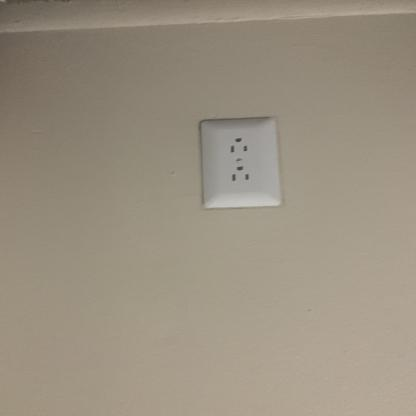OUTLET: (201, 116, 278, 209)
